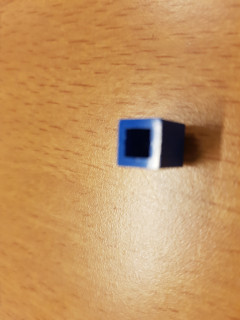1x1 blue: (118, 118, 185, 170)
